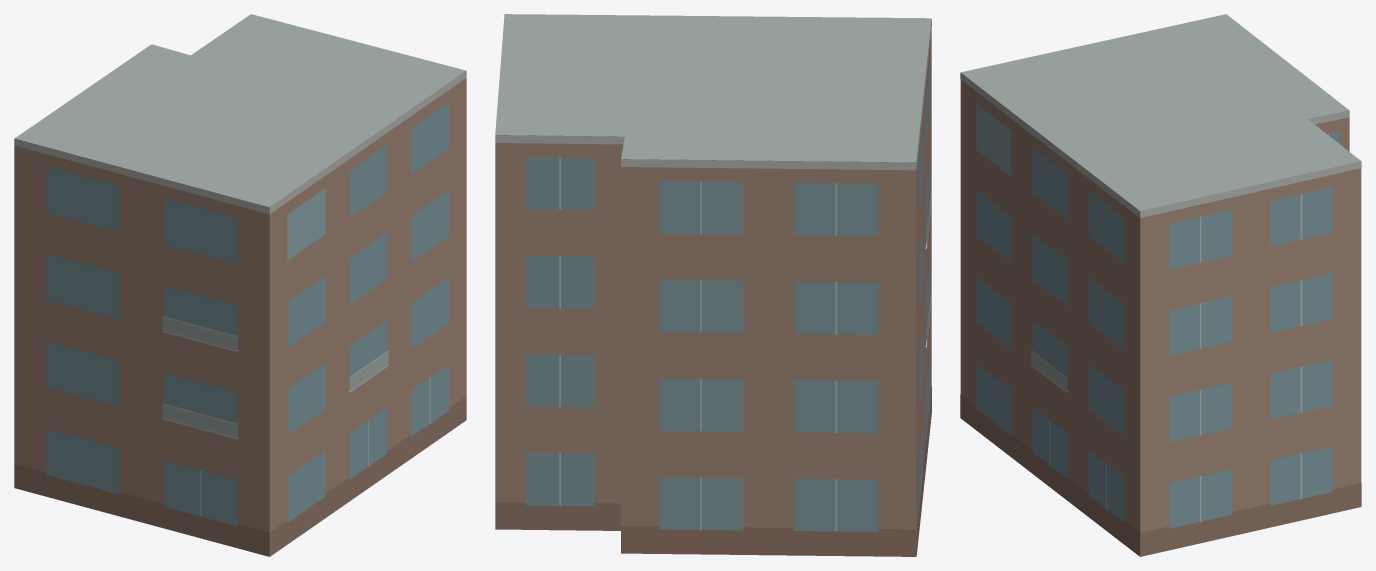
The model's file is survey-upis-32863017.glb.
3 renders of one model, left to right at view 1: azimuth 30°, elevation 25°; view 2: azimuth 150°, elevation 25°; view 3: azimuth 270°, elevation 25°, orthographic. The views are drawn at different scales.
Parts seen in each view (by area): view 1: survey-upis-32863017.tmp; view 2: survey-upis-32863017.tmp; view 3: survey-upis-32863017.tmp.
Part boxes in pixels (left/top/right/bottom): survey-upis-32863017.tmp: left=14, top=14, right=466, bottom=556; survey-upis-32863017.tmp: left=495, top=14, right=931, bottom=556; survey-upis-32863017.tmp: left=960, top=14, right=1361, bottom=556.
Bounding box in the file's own units: 14.85 × 12.13 × 12.76.
